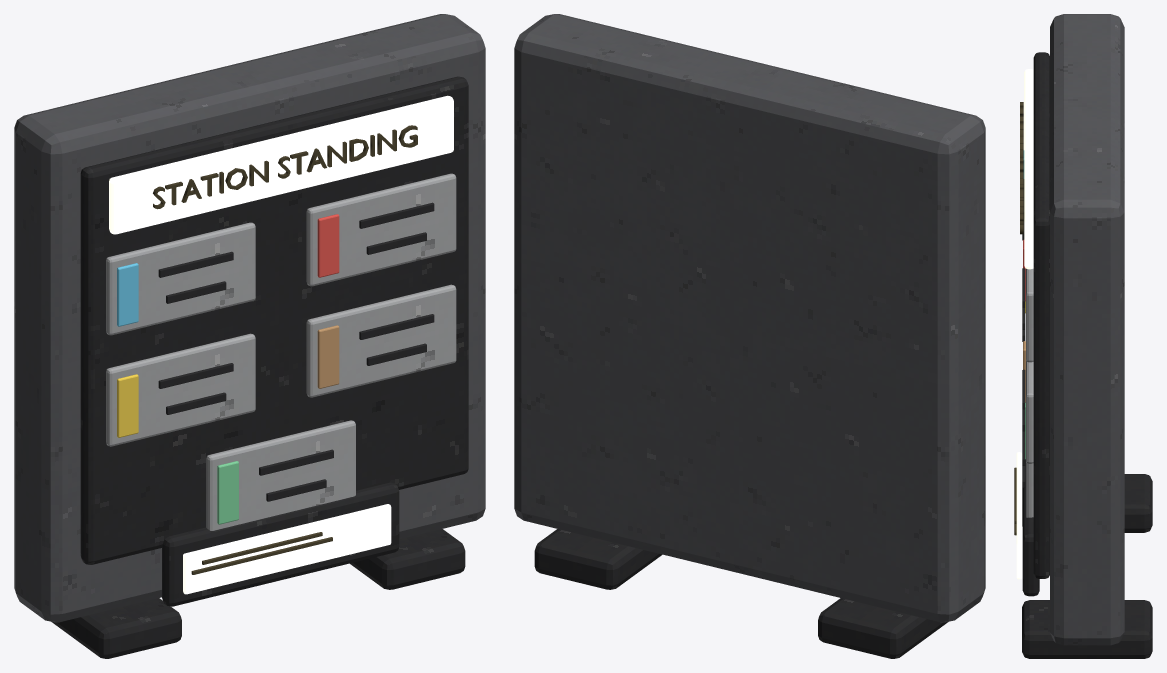
File: machine_standing_board.glb
The picture shows the model from 3 angles, left to right: view 1: azimuth 30°, elevation 25°; view 2: azimuth 150°, elevation 25°; view 3: azimuth 270°, elevation 25°; orthographic projection. The views are drawn at different scales.
Parts seen in each view (by area): view 1: MCH_StandingBoard__Frame, MCH_StandingBoard__Board_Surface, MCH_StandingBoard__Header, MCH_StandingBoard__Department_Card_2, MCH_StandingBoard__Department_Card_4, MCH_StandingBoard__Department_Card_3, MCH_StandingBoard__Department_Card_1, MCH_StandingBoard__Department_Card_5, MCH_StandingBoard__Board_Control_Glow, MCH_StandingBoard__Board_Control_Bezel, MCH_StandingBoard__Foot_Left, MCH_StandingBoard__Foot_Right (+12 smaller); view 2: MCH_StandingBoard__Frame, MCH_StandingBoard__Foot_Right, MCH_StandingBoard__Foot_Left; view 3: MCH_StandingBoard__Frame, MCH_StandingBoard__Board_Surface, MCH_StandingBoard__Foot_Right, MCH_StandingBoard__Header, MCH_StandingBoard__Foot_Left, MCH_StandingBoard__Board_Control_Bezel, MCH_StandingBoard__Board_Control_Glow, MCH_StandingBoard__Department_Card_4, MCH_StandingBoard__Department_Card_2, MCH_StandingBoard__Header_Text, MCH_StandingBoard__Department_Card_5.
Boxes of the visible parts, x1,y1,x2,y2 form: MCH_StandingBoard__Frame: (14, 14, 485, 622); MCH_StandingBoard__Board_Surface: (80, 76, 468, 564); MCH_StandingBoard__Header: (109, 95, 453, 234); MCH_StandingBoard__Department_Card_2: (306, 173, 456, 286); MCH_StandingBoard__Department_Card_4: (306, 284, 456, 397); MCH_StandingBoard__Department_Card_3: (106, 333, 255, 446); MCH_StandingBoard__Department_Card_1: (106, 222, 255, 335); MCH_StandingBoard__Department_Card_5: (206, 420, 355, 530); MCH_StandingBoard__Board_Control_Glow: (183, 504, 391, 594); MCH_StandingBoard__Board_Control_Bezel: (162, 482, 399, 606); MCH_StandingBoard__Foot_Left: (51, 598, 181, 658); MCH_StandingBoard__Foot_Right: (350, 529, 465, 589); MCH_StandingBoard__Frame: (514, 14, 985, 622); MCH_StandingBoard__Foot_Right: (534, 529, 662, 589); MCH_StandingBoard__Foot_Left: (818, 598, 948, 658); MCH_StandingBoard__Frame: (1050, 14, 1124, 645); MCH_StandingBoard__Board_Surface: (1033, 52, 1049, 578); MCH_StandingBoard__Foot_Right: (1022, 600, 1152, 658); MCH_StandingBoard__Header: (1024, 69, 1033, 269); MCH_StandingBoard__Foot_Left: (1022, 474, 1152, 532); MCH_StandingBoard__Board_Control_Bezel: (1022, 459, 1039, 596); MCH_StandingBoard__Board_Control_Glow: (1016, 452, 1022, 579); MCH_StandingBoard__Department_Card_4: (1026, 360, 1033, 463); MCH_StandingBoard__Department_Card_2: (1026, 268, 1033, 362); MCH_StandingBoard__Header_Text: (1020, 102, 1023, 234); MCH_StandingBoard__Department_Card_5: (1026, 461, 1033, 517).
Size of the model in its own units: 1.5 by 1.68 by 0.444.
Materials: 10 (3 with a texture image).
